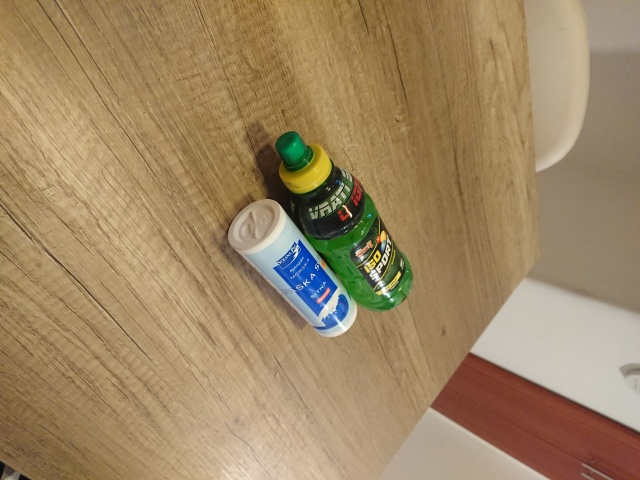Solana Pag Fine Sea Salt 250g: (225, 197, 359, 339)
Vindi Iso Sport Lemon-Grapefruit 500mL: (273, 128, 417, 314)
